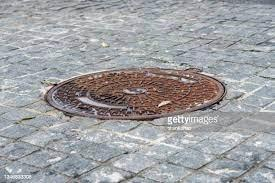closed manhole-not overflowing-: (44, 65, 226, 128)
